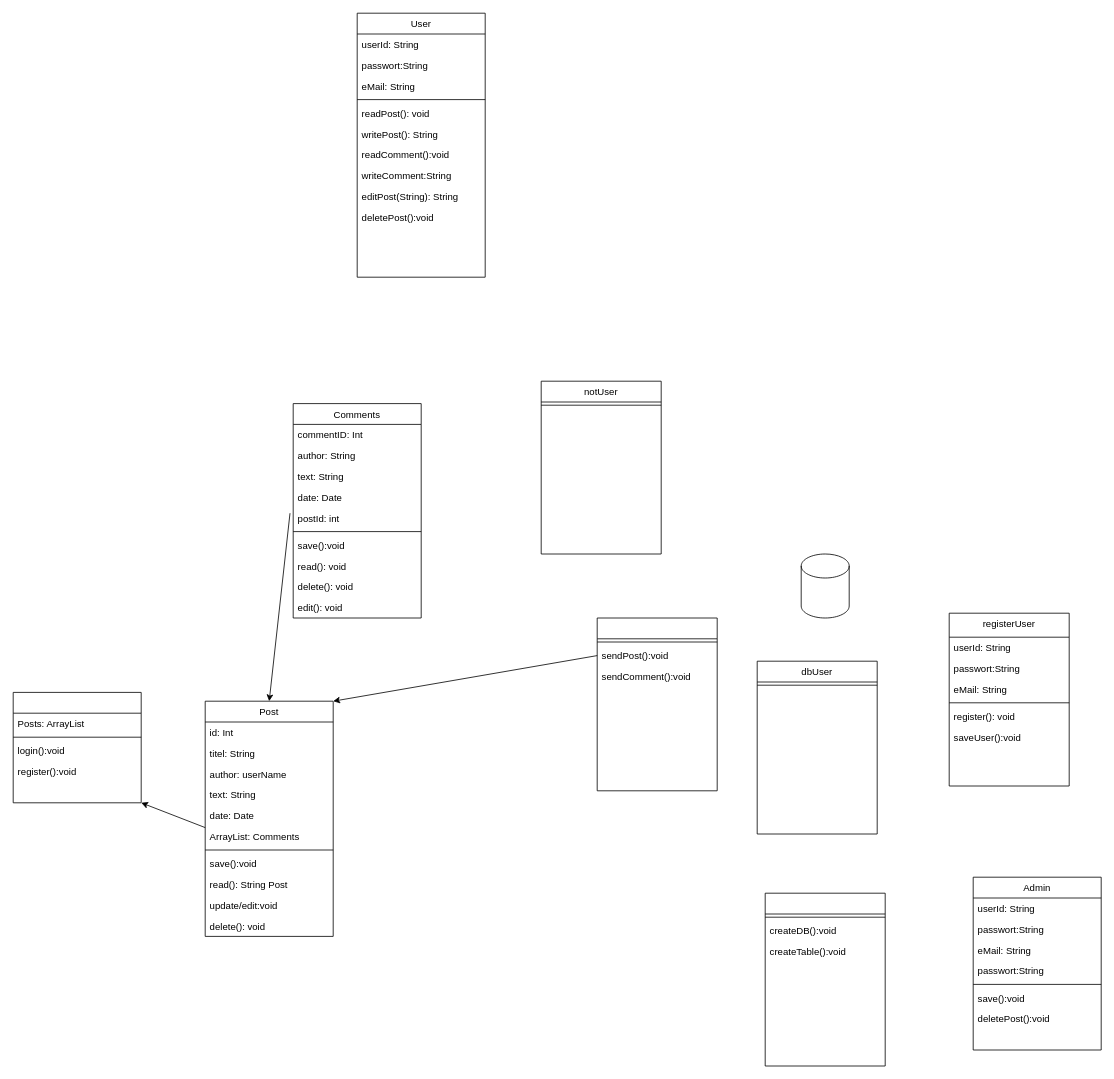
Some shapes in this 1114 by 1079 pixel diagram are drawn without their labels. The box of each missing label's shape, as (x1, y1, x2, y2) in pixels:
dbAdmin: (764, 892, 885, 1066)
dbPost: (596, 617, 717, 791)
Webblog: (12, 692, 141, 803)
